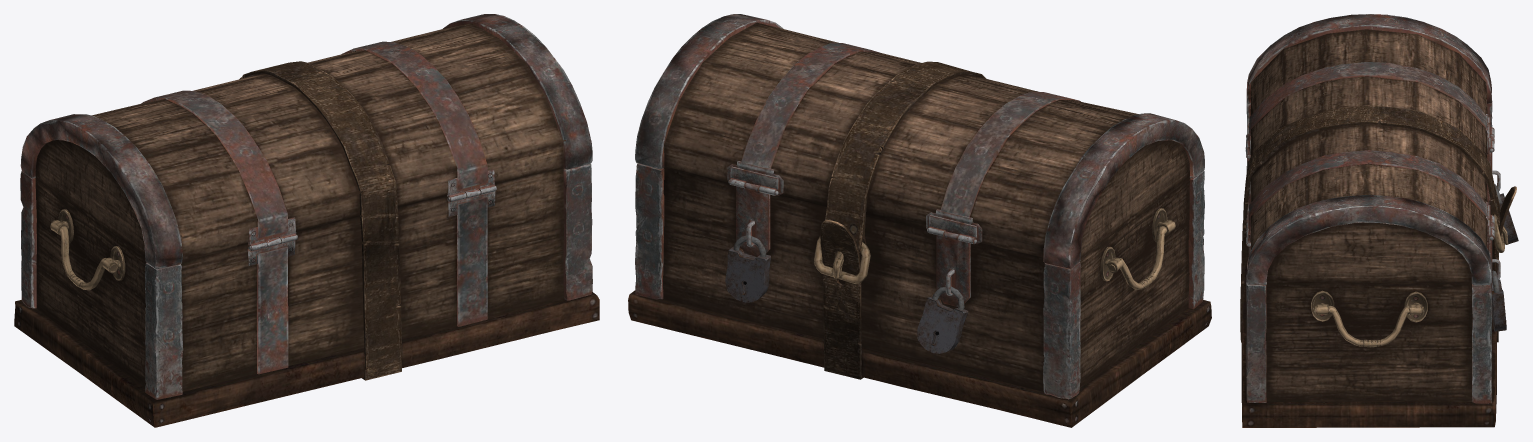
Rendered from chest_wood.glb.
3 renders of one model, left to right at view 1: azimuth 30°, elevation 25°; view 2: azimuth 150°, elevation 25°; view 3: azimuth 270°, elevation 25°, orthographic. The views are drawn at different scales.
Parts seen in each view (by area): view 1: defaultMaterial; view 2: defaultMaterial, defaultMaterial.001; view 3: defaultMaterial, defaultMaterial.001.
Boxes of the visible parts, bbox=[...] form: defaultMaterial: bbox=[14, 14, 599, 427]; defaultMaterial: bbox=[628, 14, 1211, 427]; defaultMaterial.001: bbox=[917, 286, 968, 353]; defaultMaterial: bbox=[1240, 14, 1516, 427]; defaultMaterial.001: bbox=[1494, 184, 1518, 243].
Size of the model in its own units: 2 by 1.03 by 1.15.
1 material, 1 textured.
